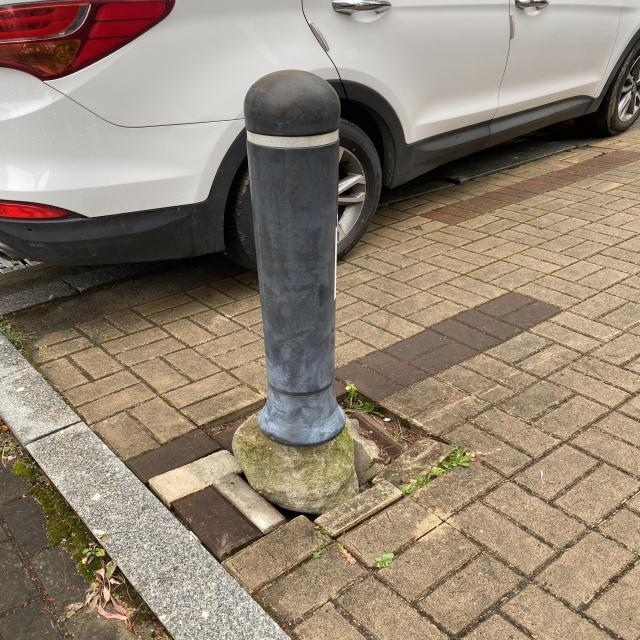pole: (245, 67, 352, 440)
